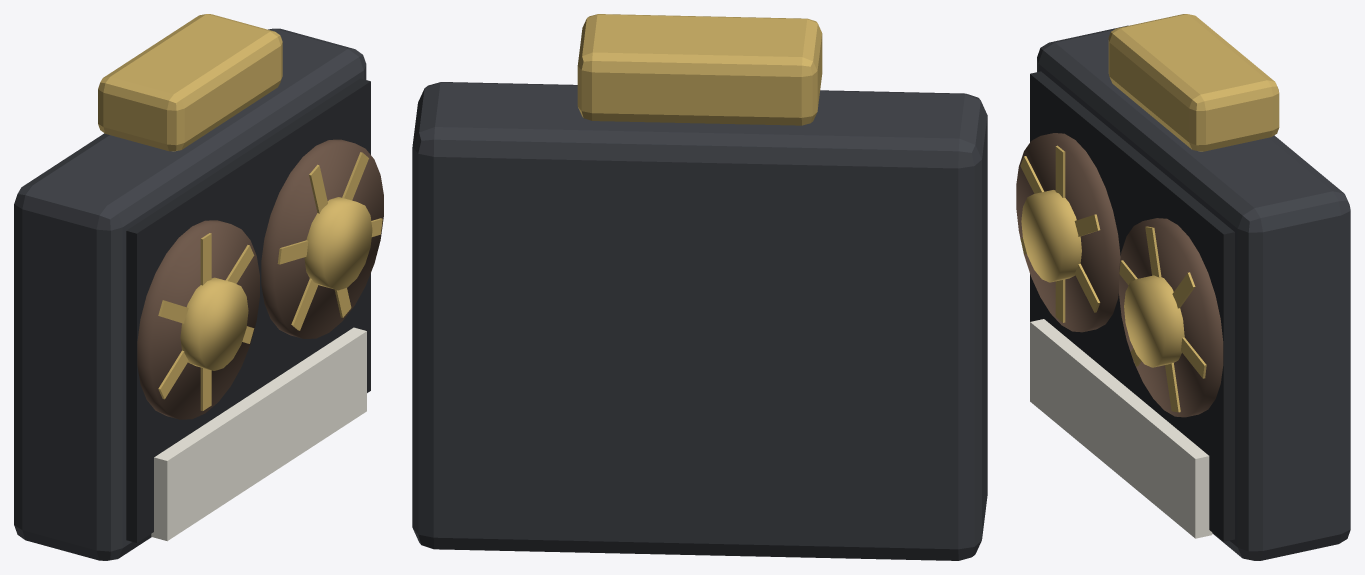
Rendered from cartridge.glb.
3 renders of one model, left to right at view 1: azimuth 30°, elevation 25°; view 2: azimuth 150°, elevation 25°; view 3: azimuth 270°, elevation 25°, orthographic. The views are drawn at different scales.
Parts seen in each view (by area): view 1: ota_cart_body, ota_cart_face, ota_cart_label, ota_cart_grip, ota_cart_spool_0, ota_cart_spool_1, ota_cart_hub_0, ota_cart_hub_1, ota_cart_spoke_1_2, ota_cart_spoke_0_0, ota_cart_spoke_0_2, ota_cart_spoke_1_0 (+2 smaller); view 2: ota_cart_body, ota_cart_grip; view 3: ota_cart_body, ota_cart_face, ota_cart_label, ota_cart_grip, ota_cart_spool_1, ota_cart_spool_0, ota_cart_hub_1, ota_cart_hub_0, ota_cart_spoke_0_0, ota_cart_spoke_1_0, ota_cart_spoke_0_1, ota_cart_spoke_1_1 (+2 smaller).
Boxes of the visible parts, x1,y1,x2,y2 form: ota_cart_body: (14,28,366,560); ota_cart_face: (126,78,370,542); ota_cart_label: (151,327,366,541); ota_cart_grip: (98,14,282,151); ota_cart_spool_0: (137,220,259,419); ota_cart_spool_1: (261,139,383,338); ota_cart_hub_0: (180,277,248,370); ota_cart_hub_1: (304,197,372,290); ota_cart_spoke_1_2: (291,152,368,330); ota_cart_spoke_0_0: (200,233,211,410); ota_cart_spoke_0_2: (158,245,254,399); ota_cart_spoke_1_0: (309,164,351,317); ota_cart_body: (412,82,987,560); ota_cart_grip: (577,14,822,125); ota_cart_body: (1037,25,1350,560); ota_cart_face: (1030,71,1234,541); ota_cart_label: (1030,319,1212,538); ota_cart_grip: (1108,14,1279,151); ota_cart_spool_1: (1119,218,1223,417); ota_cart_spool_0: (1016,133,1120,332); ota_cart_hub_1: (1124,275,1184,367); ota_cart_hub_0: (1021,190,1081,282); ota_cart_spoke_0_0: (1055,145,1065,322); ota_cart_spoke_1_0: (1145,226,1180,412); ota_cart_spoke_0_1: (1020,156,1100,312); ota_cart_spoke_1_1: (1119,260,1206,378).
Bounding box in the file's own units: 0.0744 × 0.073 × 0.0533.
